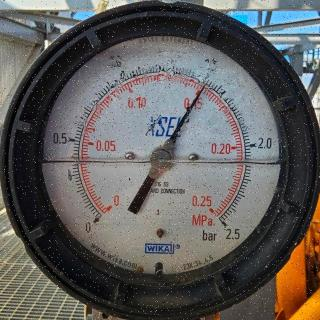gauge: (1, 9, 316, 318), (210, 208, 242, 242), (80, 203, 112, 236), (149, 148, 173, 172), (201, 72, 213, 84)
